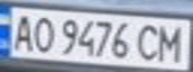4: (75, 16, 96, 56)
6: (109, 19, 136, 60)
7: (93, 17, 115, 59)
9: (57, 15, 81, 55)
A: (6, 10, 39, 52)
C: (133, 20, 163, 62)
M: (157, 21, 190, 63)
O: (30, 12, 57, 54)
